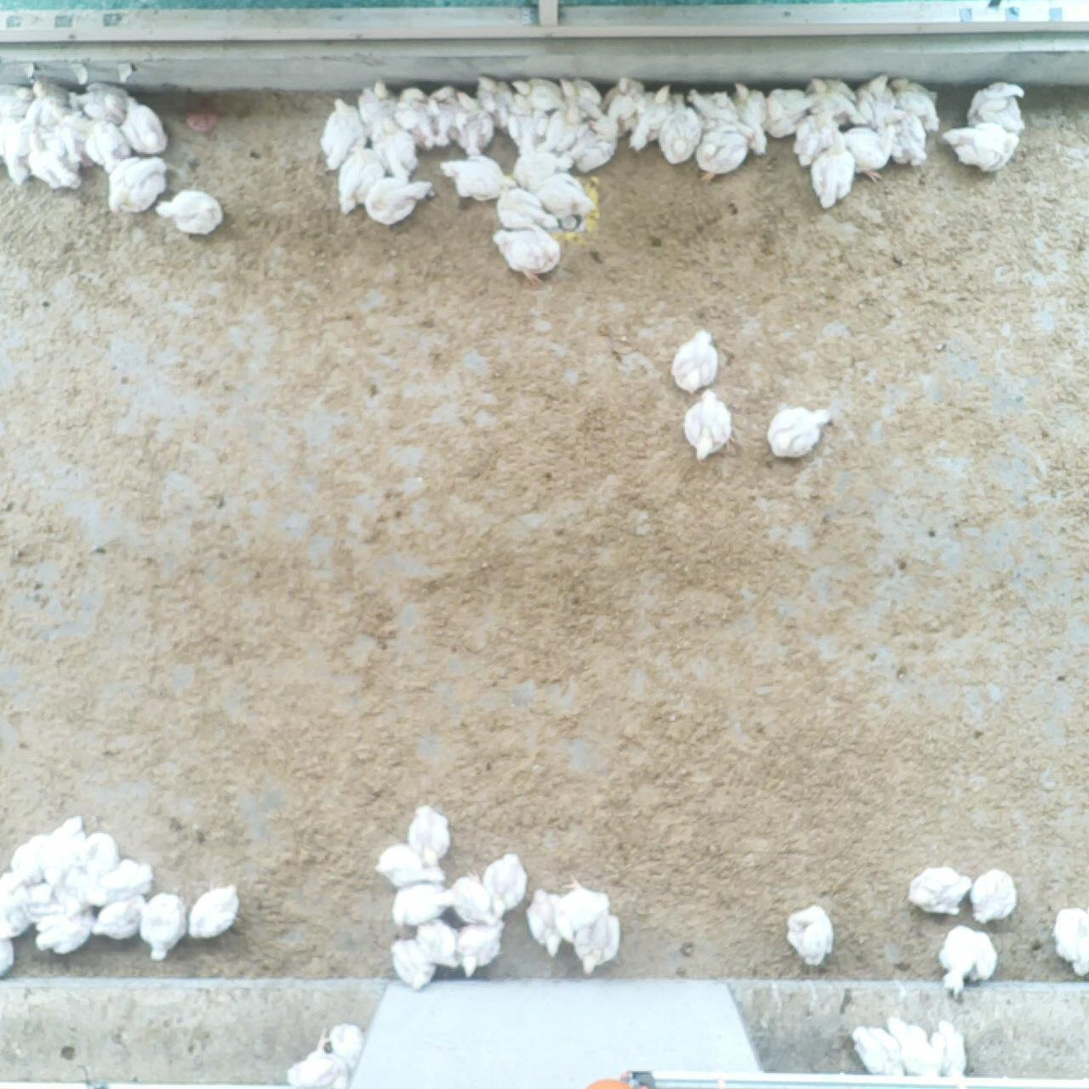chicken: (936, 925, 1003, 996), (490, 225, 563, 281), (943, 122, 1020, 175), (836, 121, 898, 185), (334, 146, 389, 214), (886, 1013, 938, 1084), (24, 130, 86, 189), (373, 846, 449, 894), (966, 83, 1024, 143), (444, 157, 524, 200), (769, 403, 829, 460), (696, 117, 749, 180), (560, 870, 608, 939), (730, 79, 775, 152), (494, 185, 558, 236), (889, 69, 939, 134), (393, 882, 453, 936), (91, 859, 157, 908), (684, 389, 730, 459), (451, 92, 499, 157), (285, 1042, 351, 1089), (786, 904, 835, 967), (851, 1023, 905, 1080), (661, 91, 703, 164), (321, 100, 365, 168), (526, 889, 571, 955), (448, 871, 499, 929), (669, 331, 718, 391), (572, 910, 619, 972), (628, 85, 672, 151), (189, 881, 239, 939), (881, 106, 927, 169), (145, 892, 191, 955), (500, 100, 549, 159), (37, 904, 91, 957), (551, 77, 607, 128), (533, 179, 602, 220), (157, 190, 224, 232), (376, 114, 419, 179), (105, 159, 162, 208), (1053, 903, 1089, 980), (363, 178, 425, 222), (764, 86, 818, 136), (119, 98, 169, 152), (480, 852, 527, 909), (28, 79, 79, 130), (77, 86, 132, 133), (909, 865, 964, 912), (14, 875, 68, 922), (408, 804, 450, 864), (512, 137, 564, 185), (810, 75, 858, 127), (858, 73, 898, 135), (927, 1026, 968, 1086), (391, 936, 438, 988), (81, 121, 131, 169), (42, 819, 84, 876), (93, 895, 145, 941), (797, 114, 842, 167), (971, 868, 1016, 921), (52, 105, 93, 163), (396, 85, 438, 141), (411, 916, 458, 966), (456, 921, 500, 972), (323, 1026, 367, 1077), (359, 83, 402, 135), (472, 73, 511, 130), (79, 830, 116, 889), (577, 120, 618, 172), (431, 84, 467, 143), (687, 88, 746, 124), (515, 71, 564, 111), (1, 123, 32, 185), (1, 84, 38, 134), (1, 872, 29, 938), (545, 110, 590, 148), (13, 839, 49, 883), (600, 77, 640, 112), (1, 930, 13, 984)
